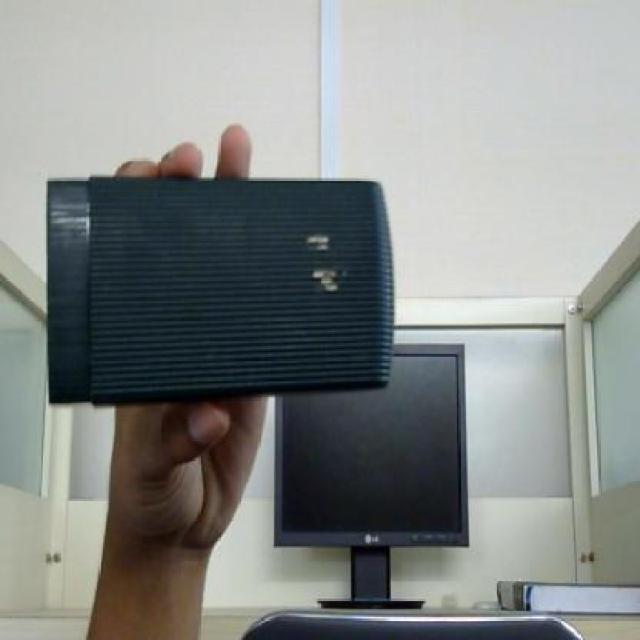Plastic: (36, 169, 403, 409)
